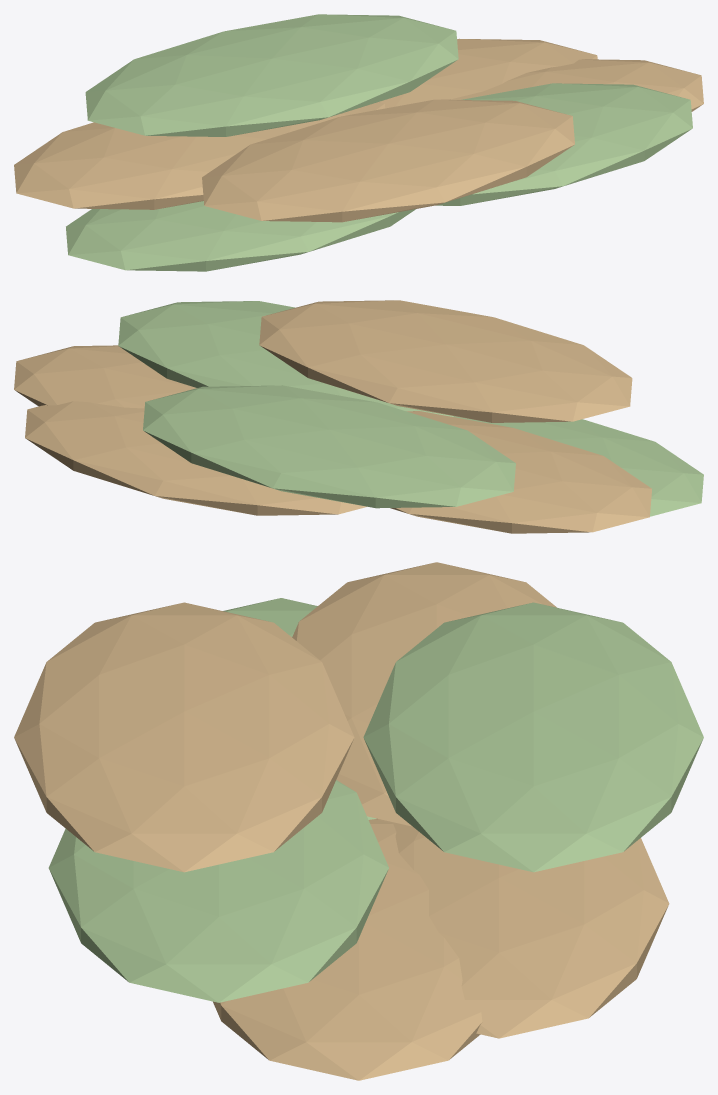
The model's file is leaf_pile.glb.
The picture shows the model from 3 angles, top to bottom: view 1: azimuth 30°, elevation 25°; view 2: azimuth 150°, elevation 25°; view 3: azimuth 270°, elevation 25°; orthographic projection. The views are drawn at different scales.
Visible parts, largest first — view 1: Leaf_2, Leaf_5, Leaf_4, Leaf_3, Leaf_1, Leaf_6, Leaf_0; view 2: Leaf_5, Leaf_2, Leaf_6, Leaf_4, Leaf_1, Leaf_0, Leaf_3; view 3: Leaf_2, Leaf_5, Leaf_1, Leaf_6, Leaf_0, Leaf_4, Leaf_3.
Boxes of the visible parts, x1,y1,x2,y2 form: Leaf_2: (202, 99, 574, 222); Leaf_5: (85, 14, 458, 136); Leaf_4: (14, 102, 385, 209); Leaf_3: (66, 201, 415, 271); Leaf_1: (436, 83, 692, 205); Leaf_6: (379, 38, 597, 108); Leaf_0: (450, 59, 703, 111); Leaf_5: (143, 385, 515, 508); Leaf_2: (259, 300, 632, 422); Leaf_6: (25, 401, 367, 515); Leaf_4: (390, 411, 651, 533); Leaf_1: (118, 301, 453, 416); Leaf_0: (14, 345, 196, 408); Leaf_3: (453, 416, 703, 516); Leaf_2: (14, 602, 354, 872); Leaf_5: (363, 602, 703, 872); Leaf_1: (48, 780, 388, 1002); Leaf_6: (376, 818, 669, 1038); Leaf_0: (213, 819, 482, 1080); Leaf_4: (292, 562, 556, 826); Leaf_3: (223, 598, 376, 819).
Size of the model in its own units: 1.59 by 0.1892 by 0.9627.
